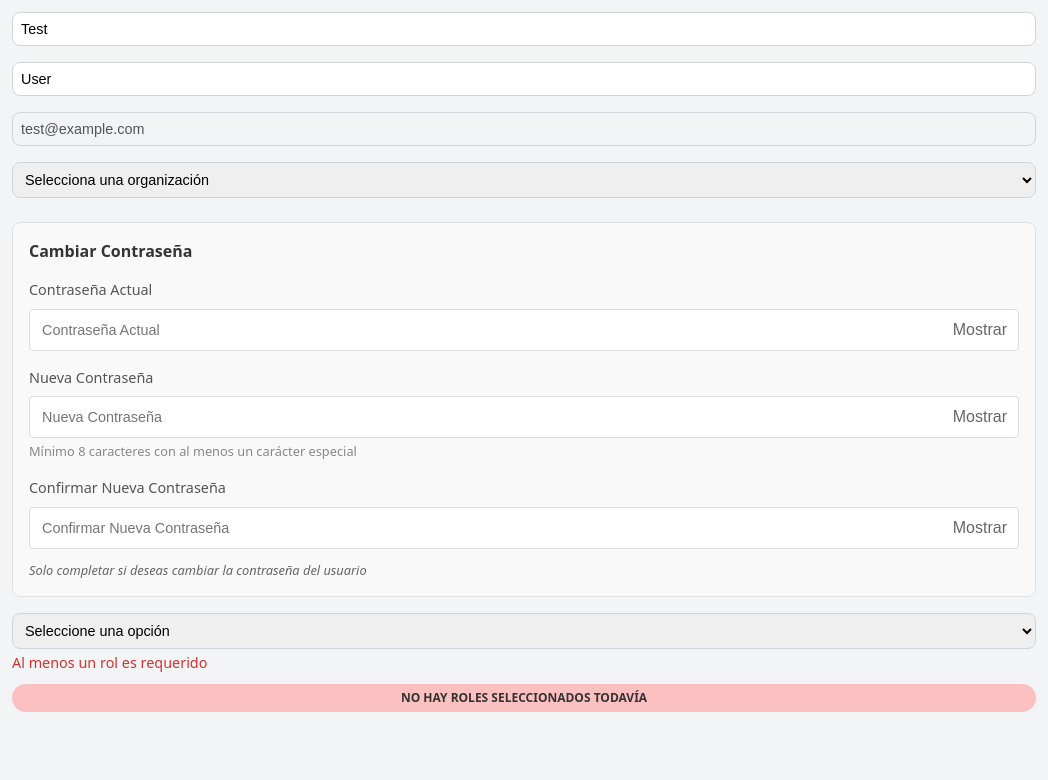
Test: UserFormModalContent - Missing Coverage Lines › Password Validation › covers lines 103-149: password validation with various scenarios
The width and height of the screenshot is (1048, 780).
Test password too short
Type "short" into the password field with placeholder "Nueva Contraseña" at [524, 417], box [29,396,1019,438]
Wait 100 ms
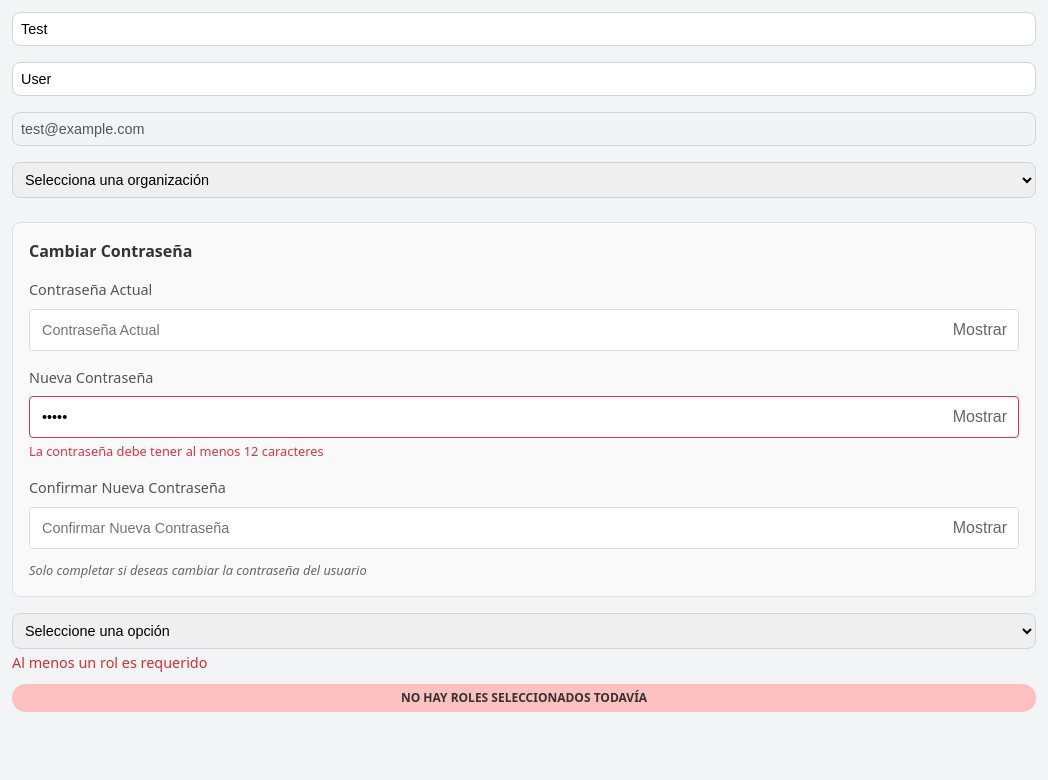
Expected: the text "La contraseña debe tener al menos 12 caracteres" is shown, [29,442,324,460]
Test password without special character
Type "longpasswordwithout" into the password field with placeholder "Nueva Contraseña" at [524, 417], box [29,396,1019,438]
Wait 100 ms
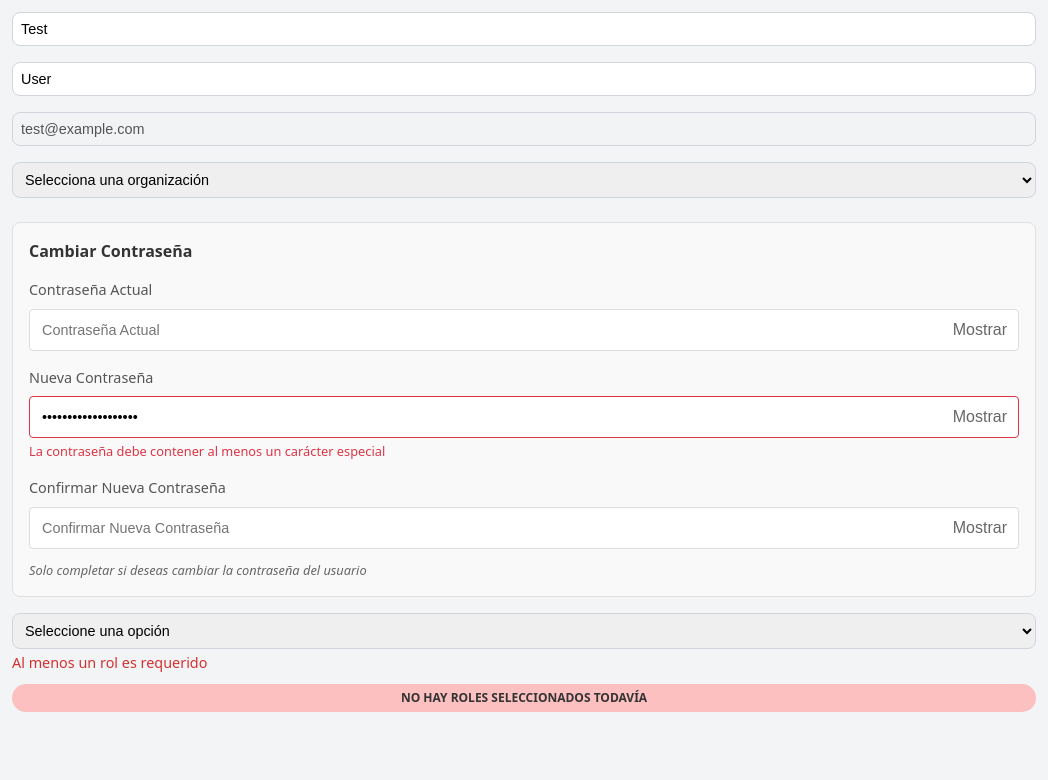
Expected: the text "La contraseña debe contener al menos un carácter especial" is shown, [29,442,385,460]
Test valid password
Type "validPassword123!" into the password field with placeholder "Nueva Contraseña" at [524, 417], box [29,396,1019,438]
Wait 100 ms
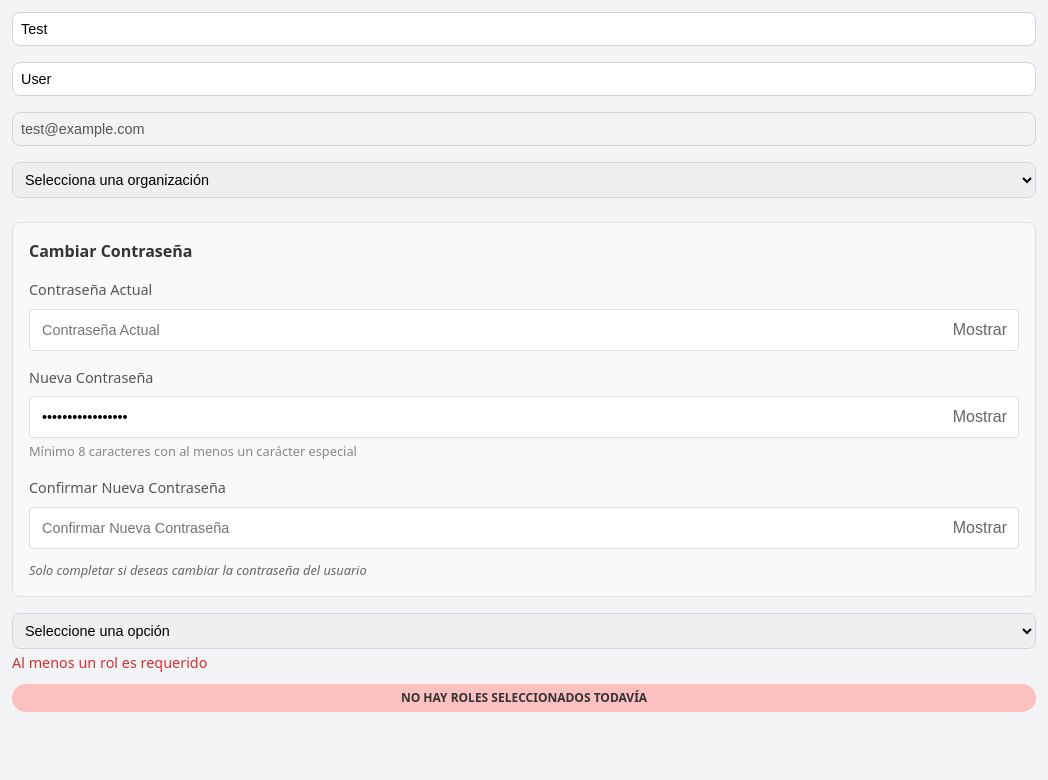
Expected: the text "La contraseña debe tener al menos 12 caracteres" is not shown
Expected: the text "La contraseña debe contener al menos un carácter especial" is gone
